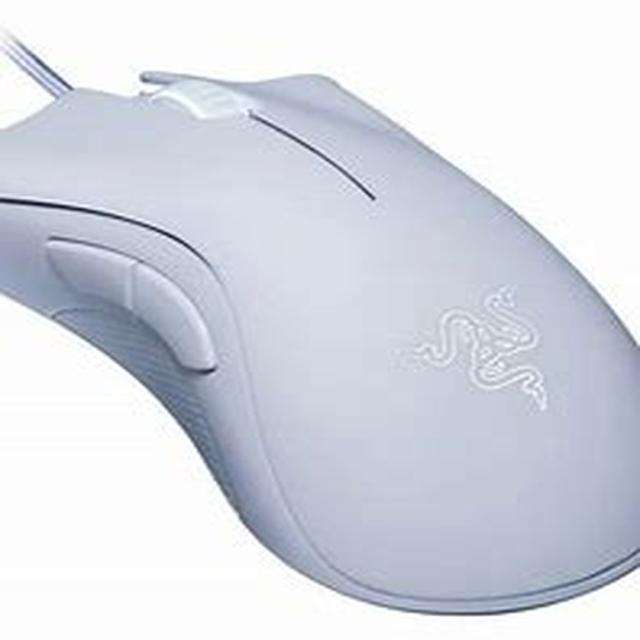mouse: (34, 27, 617, 640)
